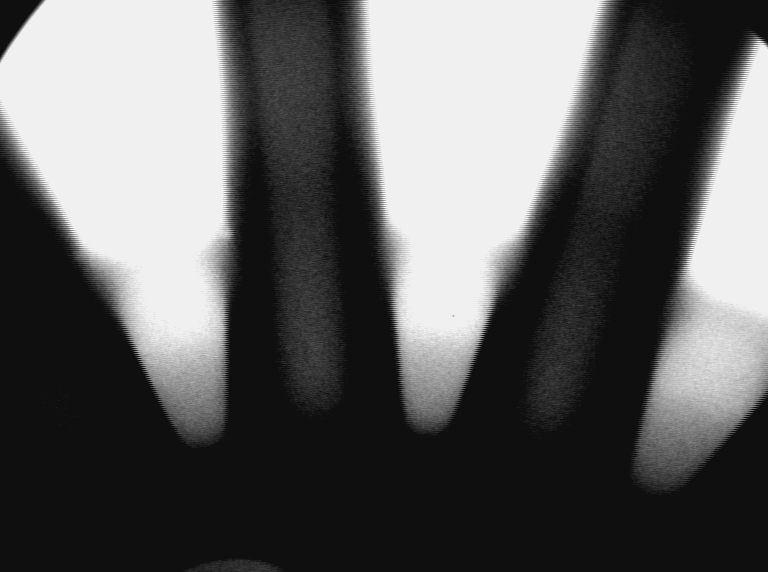defect: (217, 226, 236, 244)
